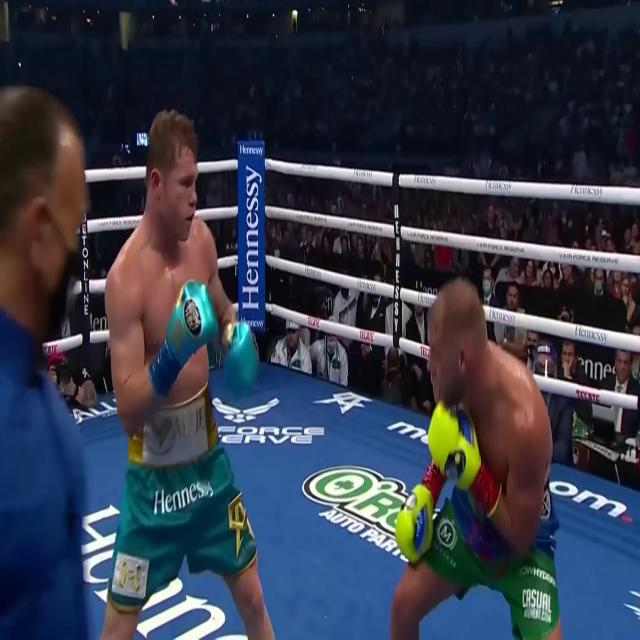boxer_1: (429, 278, 553, 556)
boxer_2: (105, 110, 235, 435)
gloves_1: (396, 401, 502, 563)
gloves_2: (148, 279, 217, 396), (223, 321, 259, 394)
